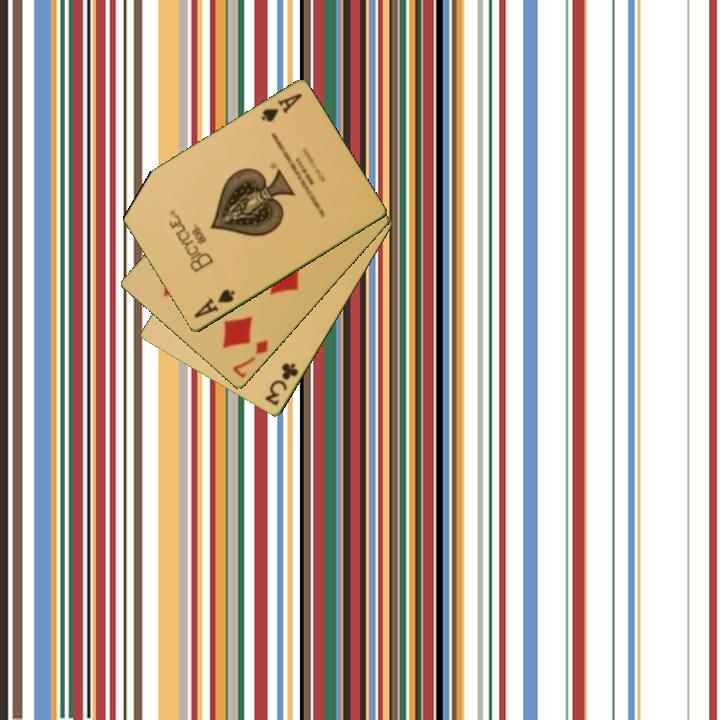3c: (261, 360, 302, 409)
7d: (229, 336, 271, 382)
As: (190, 286, 238, 322), (258, 90, 305, 126)
